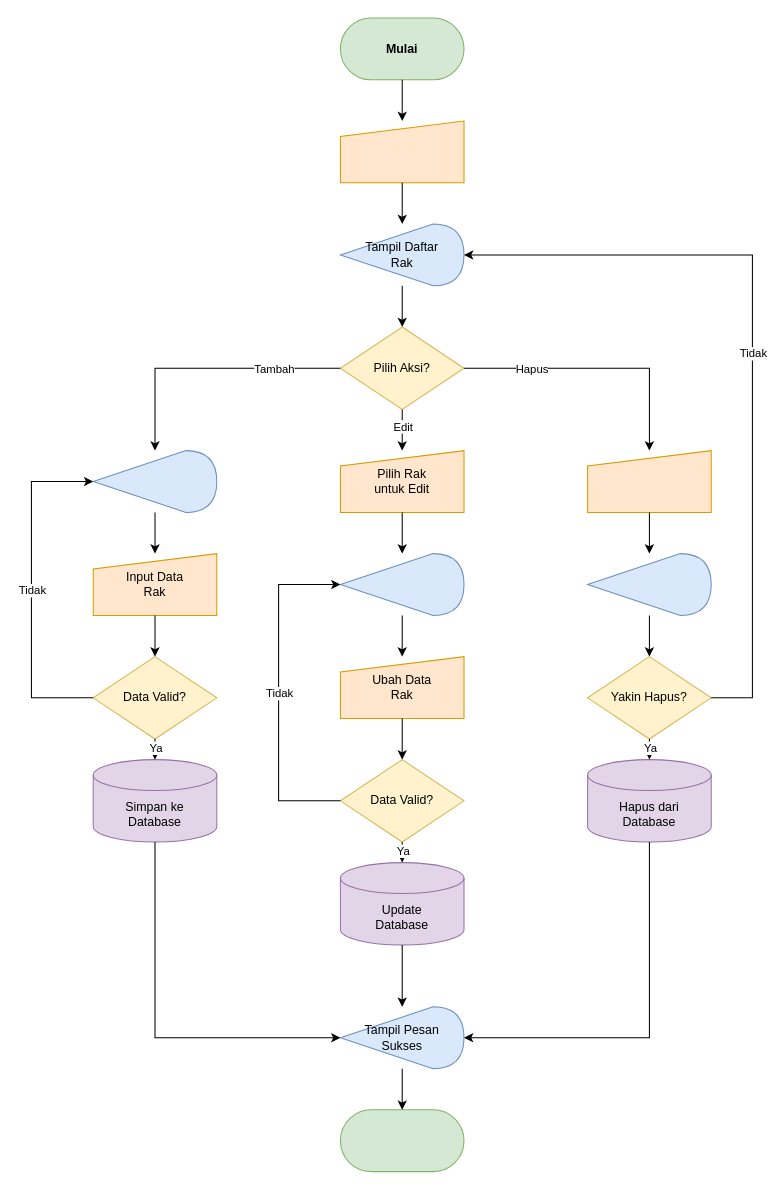
Some shapes in this 784 by 1190 pixel diagram are drawn without their labels. The shapes that lost their labels are listed below. From the top down, each one's box as (x1, y1, x2, y2) in pixels, then its label:
(339, 120, 464, 183): Pilih Menu Kelola Rak
(92, 450, 217, 512): Tampil Form Tambah Rak
(587, 450, 711, 512): Pilih Rak untuk Hapus
(339, 553, 464, 615): Tampil Form Edit Rak
(587, 553, 711, 615): Tampil Dialog Konfirmasi
(339, 1109, 464, 1172): Selesai
